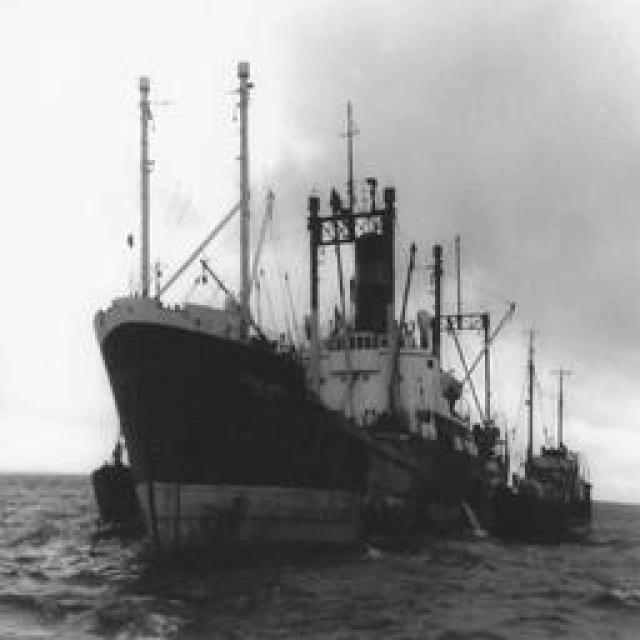Ship: (91, 73, 551, 538)
